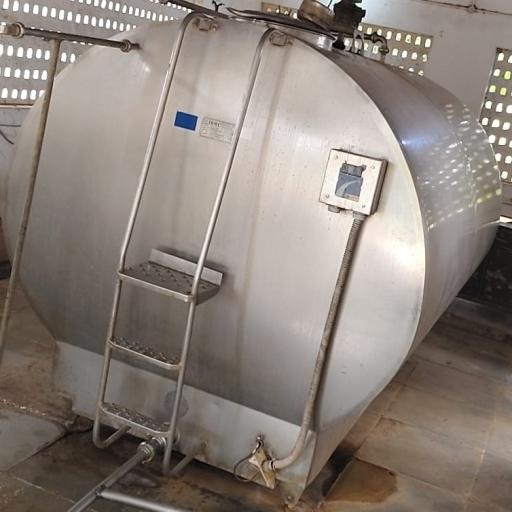silo: (2, 8, 502, 480)
